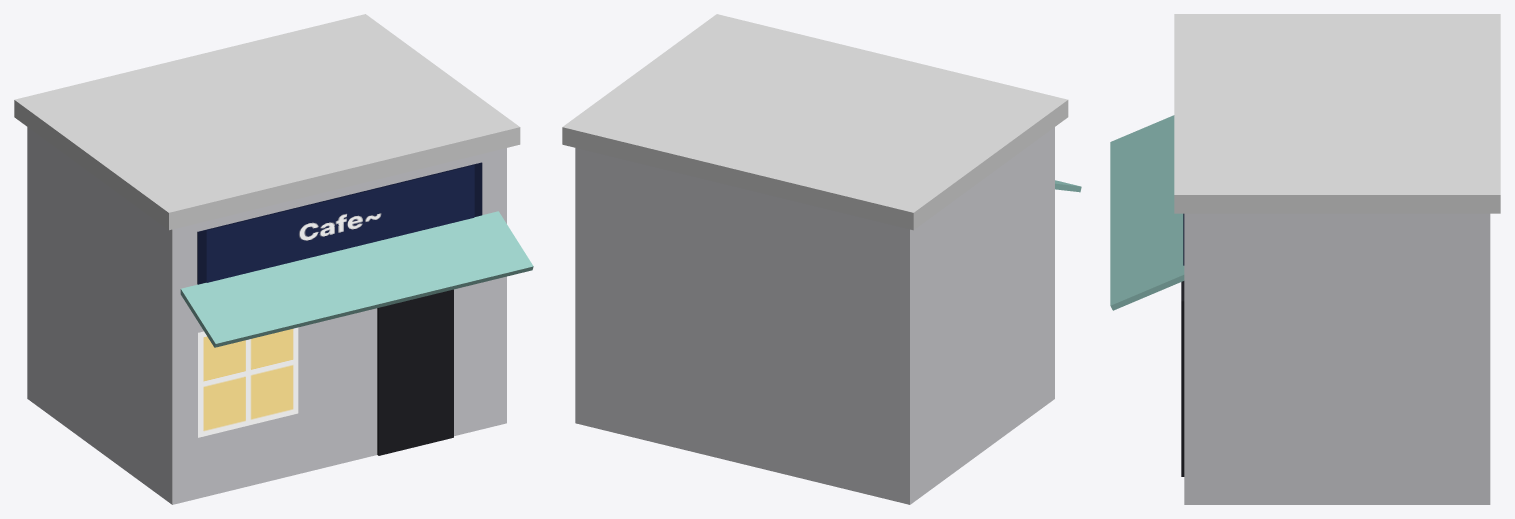
File: shop_cafe.glb
3 renders of one model, left to right at view 1: azimuth 30°, elevation 25°; view 2: azimuth 150°, elevation 25°; view 3: azimuth 270°, elevation 25°, orthographic. The views are drawn at different scales.
Parts seen in each view (by area): view 1: shop_cafe; view 2: shop_cafe; view 3: shop_cafe.
Part boxes in pixels (x1,y1,x2,y2): shop_cafe: [14, 14, 533, 504]; shop_cafe: [562, 14, 1081, 504]; shop_cafe: [1110, 14, 1500, 504].
Bounding box in the file's own units: 4.2 × 3.4 × 3.83.
7 materials, 2 textured.
